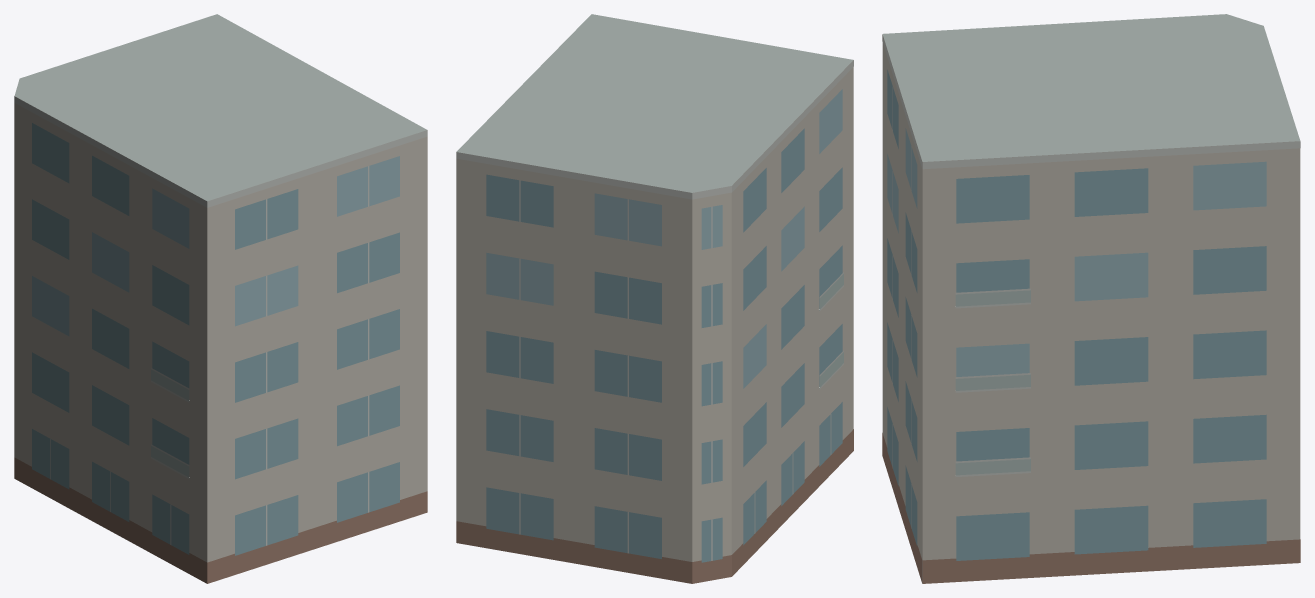
The model's file is survey-upis-32548755.glb.
3 renders of one model, left to right at view 1: azimuth 30°, elevation 25°; view 2: azimuth 150°, elevation 25°; view 3: azimuth 270°, elevation 25°, orthographic. The views are drawn at different scales.
Visible parts, largest first — view 1: survey-upis-32548755.tmp; view 2: survey-upis-32548755.tmp; view 3: survey-upis-32548755.tmp.
Boxes of the visible parts, x1=… form: survey-upis-32548755.tmp: x1=14, y1=14, x2=427, y2=583; survey-upis-32548755.tmp: x1=456, y1=14, x2=853, y2=583; survey-upis-32548755.tmp: x1=882, y1=14, x2=1300, y2=583.
Bounding box in the file's own units: 10.78 × 14.3 × 12.86.
